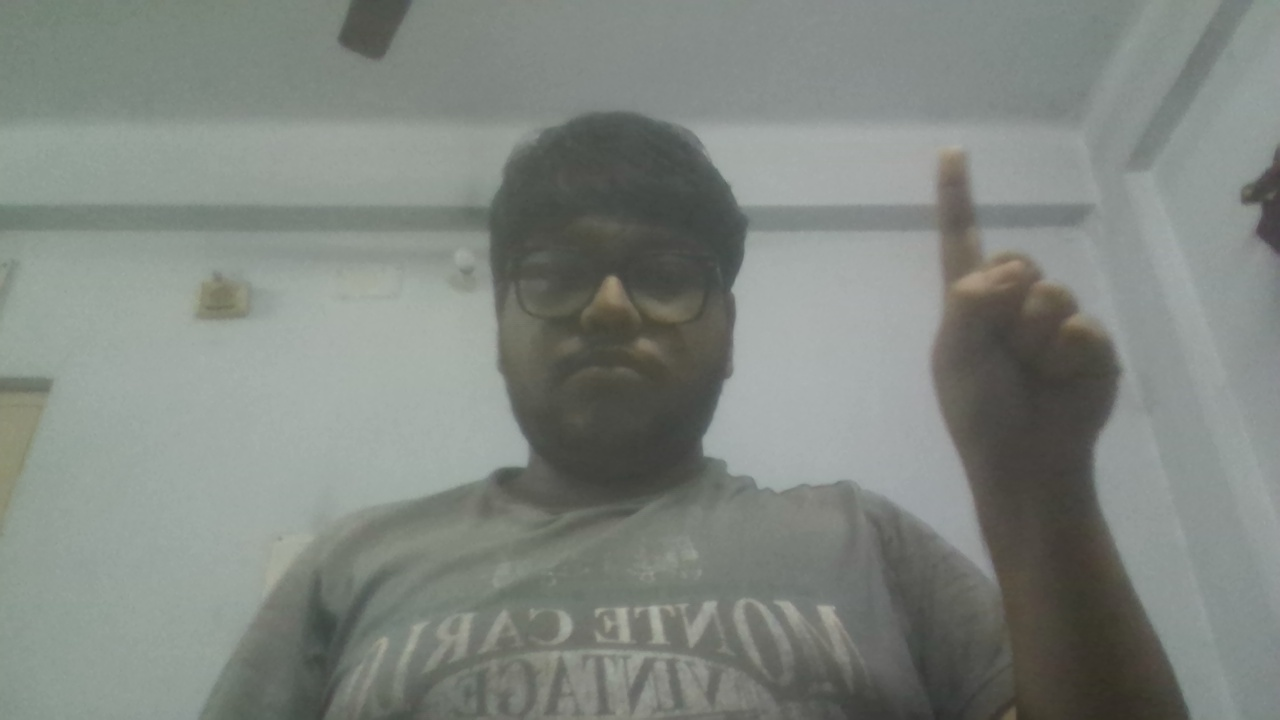Gesture1: (915, 137, 1138, 494)
